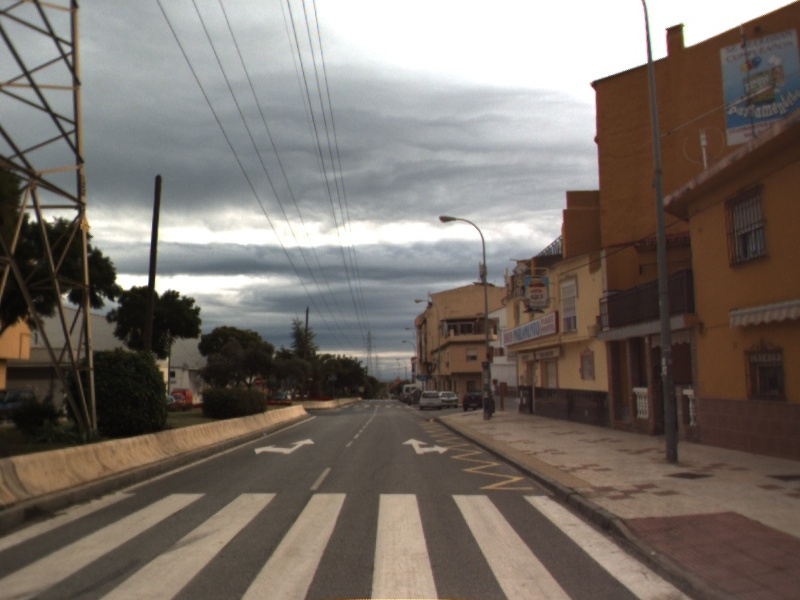STRAIGHT_LEFT: (252, 436, 318, 457)
STRAIGHT_RIGHT: (400, 436, 451, 456)
